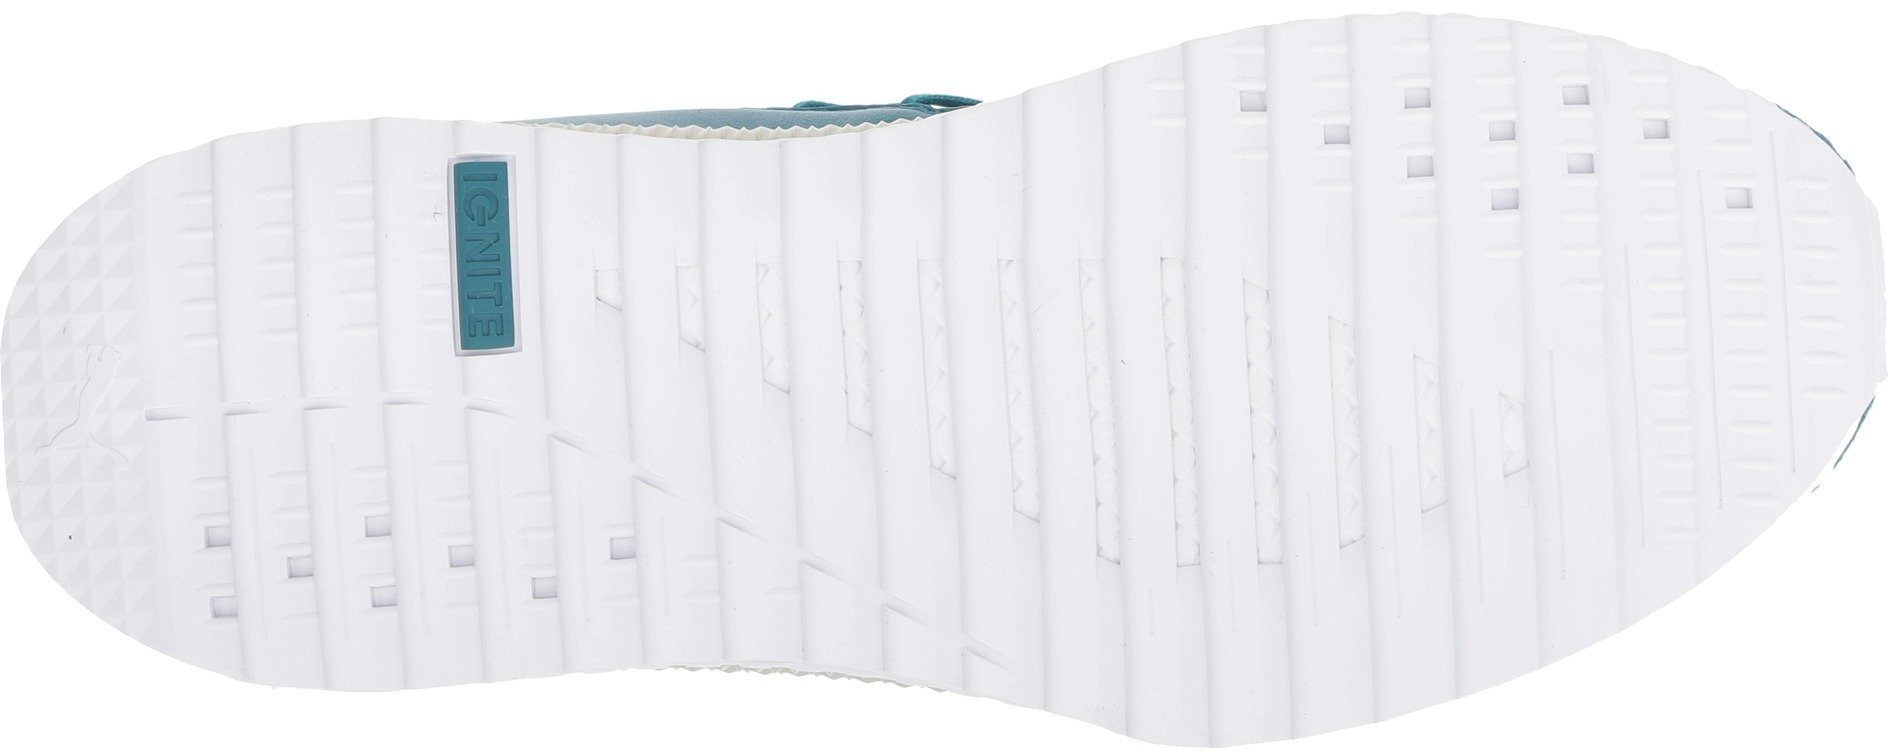exclude: (460, 1, 1003, 141), (576, 662, 1048, 751)
other: (2, 330, 163, 493)
quad: (803, 126, 1337, 649), (208, 387, 489, 674), (1524, 120, 1807, 397), (1269, 380, 1535, 645), (545, 386, 806, 633), (160, 156, 383, 381), (378, 149, 589, 362), (1315, 32, 1526, 227)
